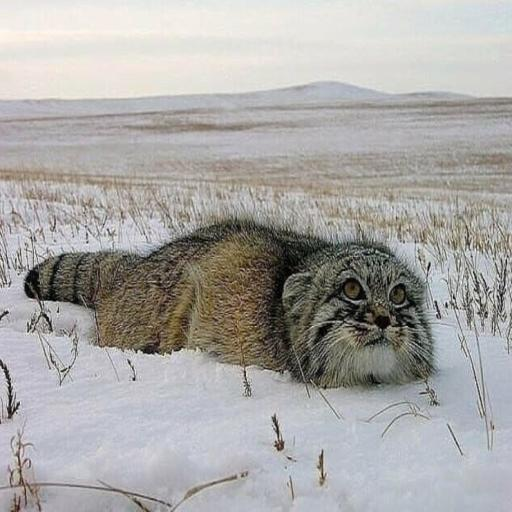manul: (24, 217, 435, 387)
